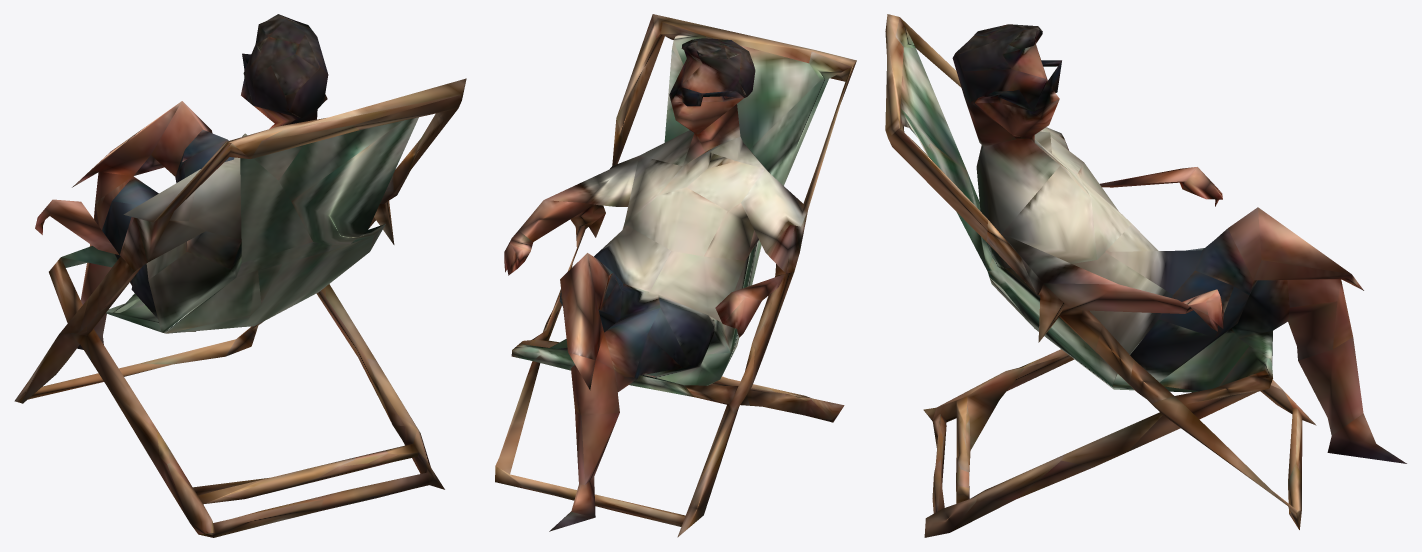
Rendered from liegestuhl.glb.
3 renders of one model, left to right at view 1: azimuth 30°, elevation 25°; view 2: azimuth 150°, elevation 25°; view 3: azimuth 270°, elevation 25°, orthographic. The views are drawn at different scales.
Parts seen in each view (by area): view 1: tripo_node_774d1a91-b819-4e05-af4c-71571c9c7193; view 2: tripo_node_774d1a91-b819-4e05-af4c-71571c9c7193; view 3: tripo_node_774d1a91-b819-4e05-af4c-71571c9c7193.
Part boxes in pixels (x1,y1,x2,y2): tripo_node_774d1a91-b819-4e05-af4c-71571c9c7193: [14, 14, 466, 537]; tripo_node_774d1a91-b819-4e05-af4c-71571c9c7193: [495, 14, 856, 537]; tripo_node_774d1a91-b819-4e05-af4c-71571c9c7193: [885, 14, 1406, 537].
Bounding box in the file's own units: 0.5735 × 0.8495 × 0.8821.
1 material, 1 textured.
